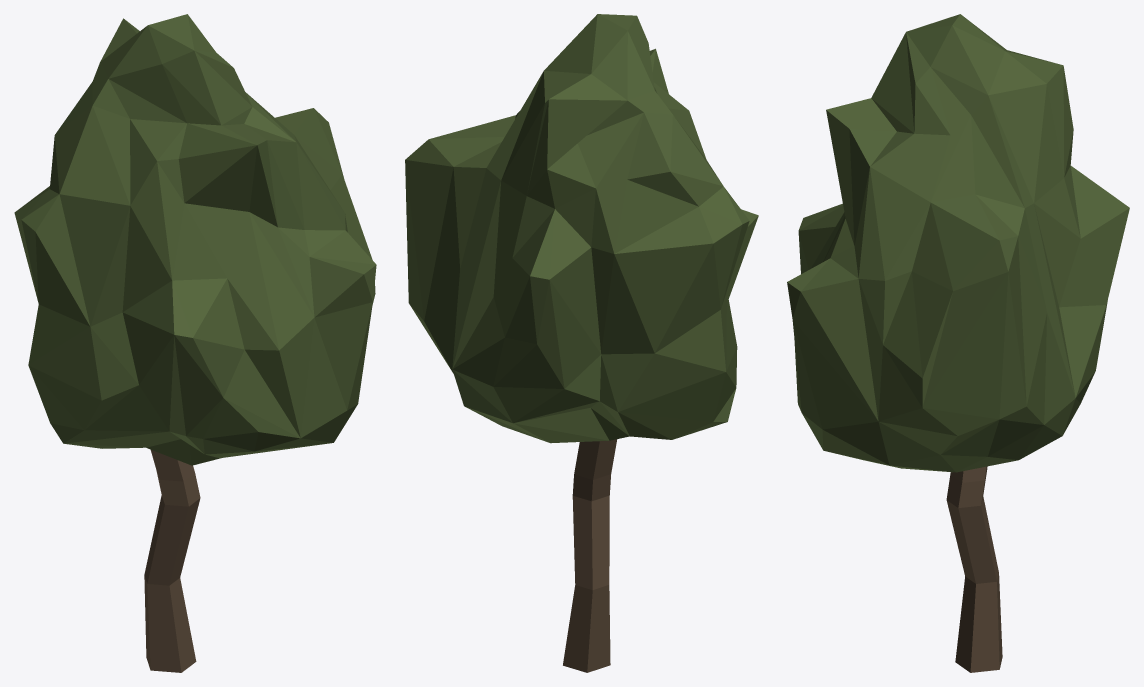
The model's file is Tree_25.gltf.
The picture shows the model from 3 angles, left to right: view 1: azimuth 30°, elevation 25°; view 2: azimuth 150°, elevation 25°; view 3: azimuth 270°, elevation 25°; orthographic projection. The views are drawn at different scales.
Parts seen in each view (by area): view 1: Tree_25; view 2: Tree_25; view 3: Tree_25.
Boxes of the visible parts, <box> form: Tree_25: <box>14,14,376,672</box>; Tree_25: <box>405,14,758,672</box>; Tree_25: <box>787,14,1129,672</box>.
Size of the model in its own units: 0.4115 by 0.7837 by 0.3812.
Materials: 1 (1 with a texture image).
